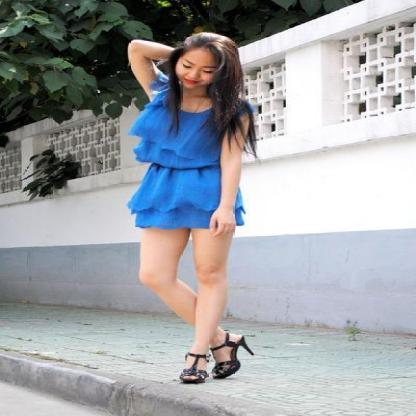dress: (127, 75, 244, 229)
pants: (215, 334, 254, 357)
shoe: (180, 353, 240, 383)
